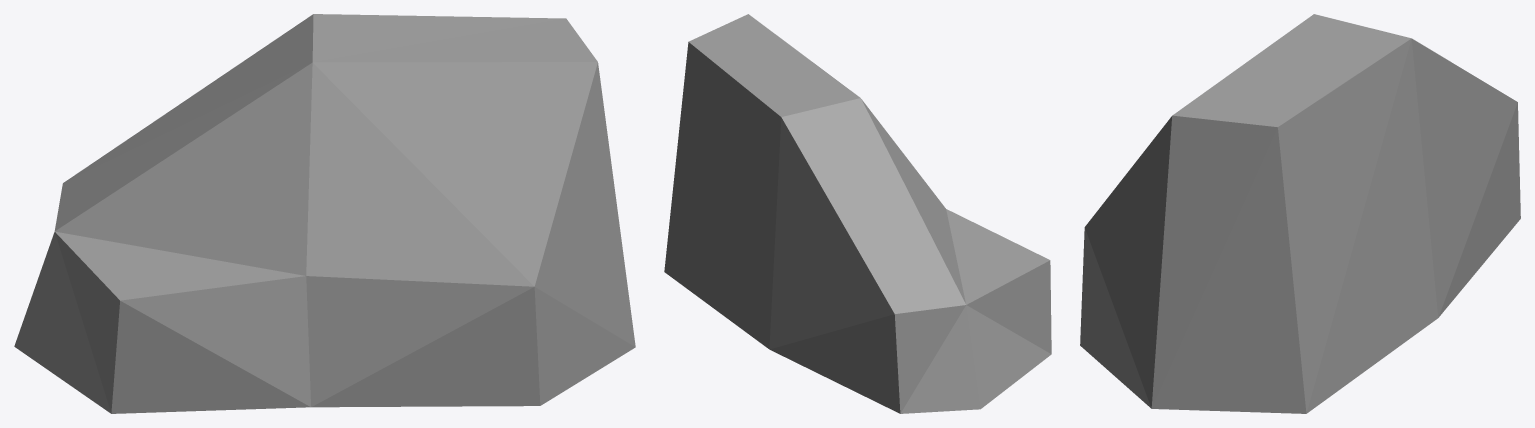
File: Isl_1_Stone_2.fbx
3 renders of one model, left to right at view 1: azimuth 30°, elevation 25°; view 2: azimuth 150°, elevation 25°; view 3: azimuth 270°, elevation 25°, orthographic. The views are drawn at different scales.
Visible parts, largest first — view 1: Isl_1_Stone_2; view 2: Isl_1_Stone_2; view 3: Isl_1_Stone_2.
Boxes of the visible parts, x1=… form: Isl_1_Stone_2: x1=14, y1=14, x2=635, y2=413; Isl_1_Stone_2: x1=664, y1=14, x2=1051, y2=413; Isl_1_Stone_2: x1=1080, y1=14, x2=1520, y2=413.
Bounding box in the file's own units: 217 × 177 × 124.
Materials: 1 (1 with a texture image).
